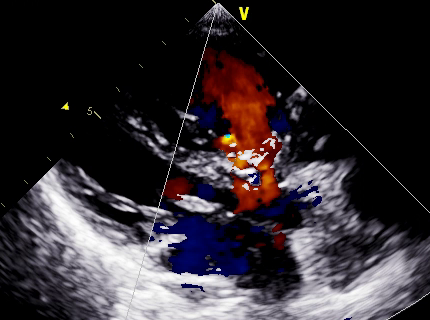AR: (216, 165, 296, 226)
